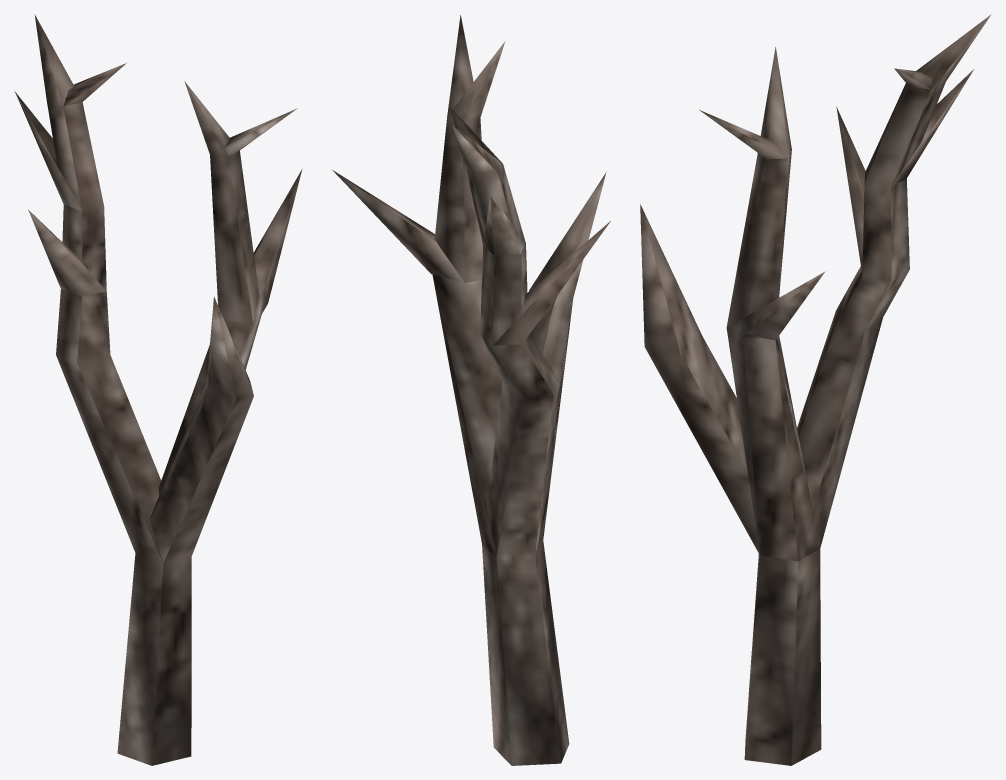
The model's file is poplarnak_1.obj.
3 views of the same model, side by side, from view 1: azimuth 30°, elevation 25°; view 2: azimuth 150°, elevation 25°; view 3: azimuth 270°, elevation 25° (orthographic). The views are drawn at different scales.
Visible parts, largest first — view 1: poplarnak_1; view 2: poplarnak_1; view 3: poplarnak_1.
Part boxes in pixels (left/top/right/bottom): poplarnak_1: left=14, top=14, right=302, bottom=765; poplarnak_1: left=332, top=15, right=610, bottom=765; poplarnak_1: left=640, top=14, right=991, bottom=765.
Bounding box in the file's own units: 1.97 × 4.67 × 2.06.
